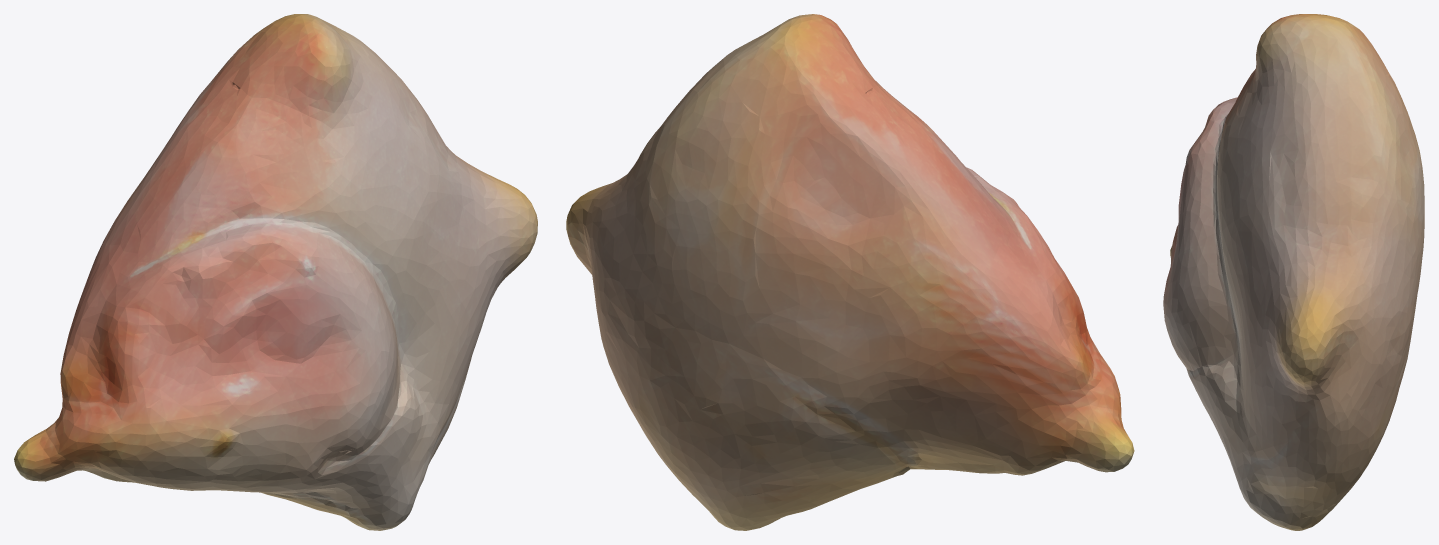
The model's file is chickenbreast.glb.
The picture shows the model from 3 angles, left to right: view 1: azimuth 30°, elevation 25°; view 2: azimuth 150°, elevation 25°; view 3: azimuth 270°, elevation 25°; orthographic projection. The views are drawn at different scales.
Parts seen in each view (by area): view 1: world; view 2: world; view 3: world.
Part boxes in pixels (x1,y1,x2,y2): world: (14,14,537,530); world: (566,14,1134,530); world: (1163,14,1424,530).
Bounding box in the file's own units: 0.7544 × 0.6957 × 0.3415.
Materials: 1 (1 with a texture image).
